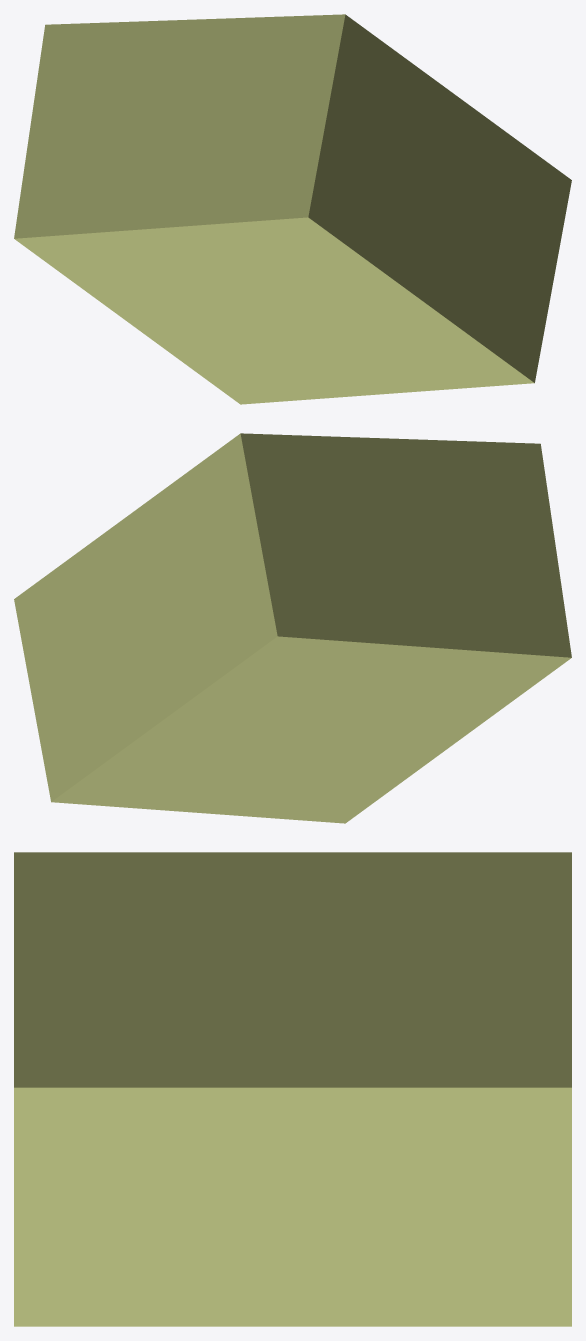
3 views of the same model, one above another, from view 1: azimuth 30°, elevation 25°; view 2: azimuth 150°, elevation 25°; view 3: azimuth 270°, elevation 25° (orthographic). The views are drawn at different scales.
Visible parts, largest first — view 1: 0_1_2_0_3_3_2_0_1_2_1; view 2: 0_1_2_0_3_3_2_0_1_2_1; view 3: 0_1_2_0_3_3_2_0_1_2_1.
Boxes of the visible parts, x1,y1,x2,y2 form: 0_1_2_0_3_3_2_0_1_2_1: [14, 14, 571, 404]; 0_1_2_0_3_3_2_0_1_2_1: [14, 433, 571, 823]; 0_1_2_0_3_3_2_0_1_2_1: [14, 852, 571, 1326].
Size of the model in its own units: 7.6 by 5.63 by 9.
